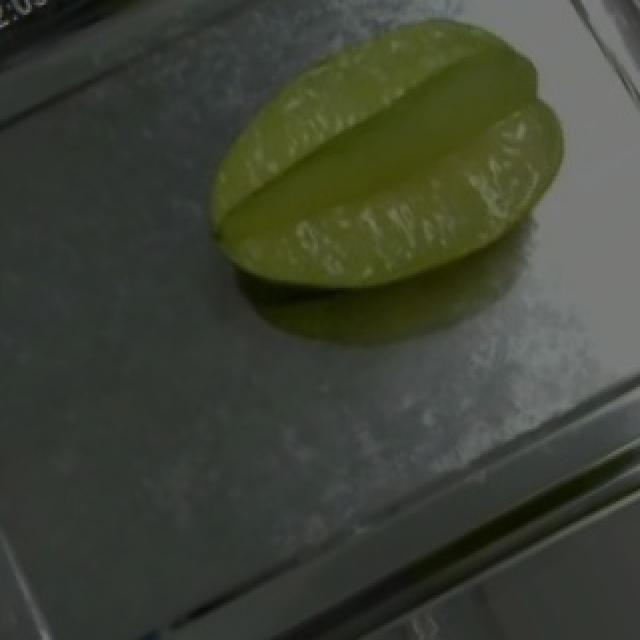fruit: (168, 0, 590, 375)
